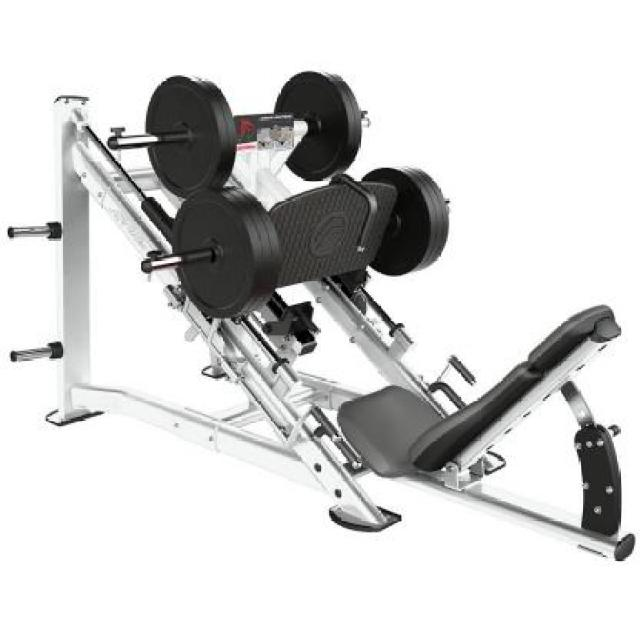leg press: (3, 42, 640, 569)
